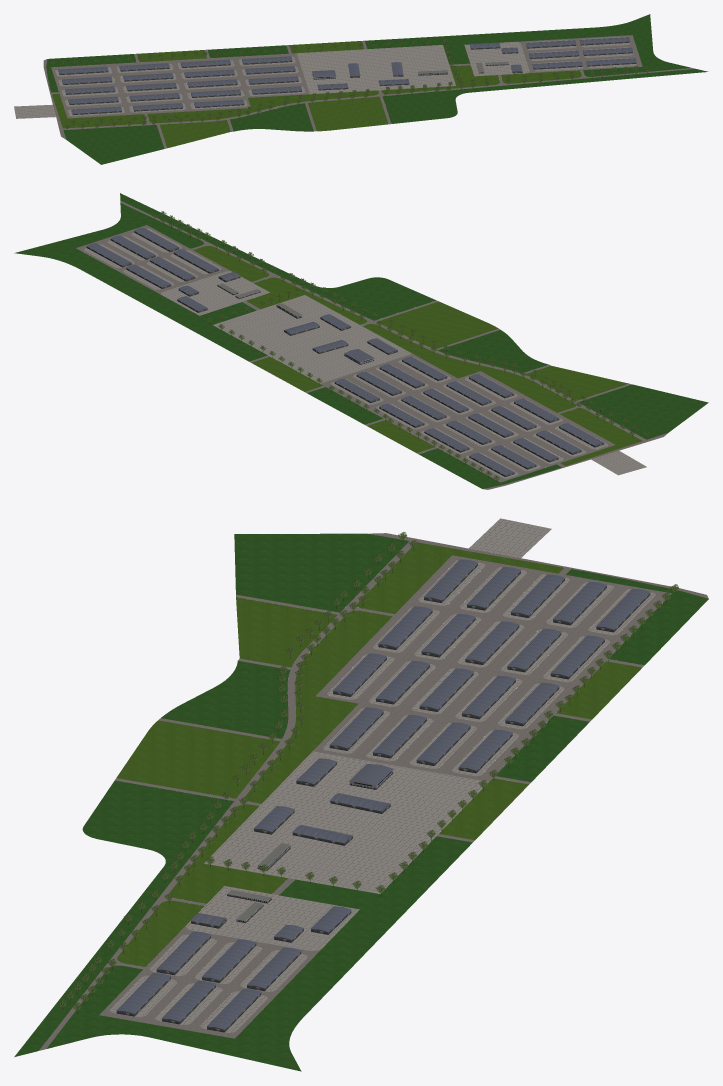
The picture shows the model from 3 angles, top to bottom: view 1: azimuth 30°, elevation 25°; view 2: azimuth 150°, elevation 25°; view 3: azimuth 270°, elevation 25°; orthographic projection. The views are drawn at different scales.
Visible parts, largest first — view 1: ??009, Line030, Rectangle134, Line027, Rectangle135, Line017, DK_3, YSQ?JZ_6, ?????_???7, YSQ?JZ_1, ?????_???1 (1), YSQ?JZ_3 (+20 smaller); view 2: ??009, Line030, Rectangle134, Line027, Rectangle135, Line017, DK_3; view 3: ??009, Line030, Rectangle134, Line027, Rectangle135, Line017, DK_3, YSQ?JZ_5, JGC_020, ?????_???12, ?????_???1 (1), ?????_???5 (1) (+20 smaller).
Boxes of the visible parts, box(x1,y1,x2,y2) form: ??009: box(46, 14, 708, 164); Line030: box(52, 41, 581, 148); Rectangle134: box(43, 40, 695, 148); Line027: box(297, 45, 455, 94); Rectangle135: box(14, 56, 305, 118); Line017: box(464, 36, 636, 76); DK_3: box(515, 35, 642, 73); YSQ?JZ_6: box(532, 61, 582, 69); ?????_???7: box(187, 79, 237, 87); YSQ?JZ_1: box(579, 37, 629, 45); ?????_???1 (1): box(242, 56, 292, 64); YSQ?JZ_3: box(586, 58, 636, 66); ??009: box(14, 193, 708, 488); Line030: box(193, 246, 642, 465); Rectangle134: box(120, 200, 668, 489); Line027: box(213, 295, 411, 383); Rectangle135: box(330, 357, 646, 478); Line017: box(84, 228, 269, 315); DK_3: box(76, 225, 231, 294); ??009: box(14, 533, 708, 1071); Line030: box(116, 542, 641, 966); Rectangle134: box(39, 533, 708, 1050); Line027: box(204, 751, 488, 893); Rectangle135: box(323, 518, 655, 776); Line017: box(110, 886, 359, 1032); DK_3: box(99, 926, 321, 1038); YSQ?JZ_5: box(202, 939, 256, 982); JGC_020: box(416, 722, 470, 765); ?????_???12: box(465, 621, 519, 664); ?????_???1 (1): box(458, 729, 512, 773); ?????_???5 (1): box(505, 682, 559, 726).
Bounding box in the file's own units: 2046 × 19.88 × 1086.
Materials: 24 (24 with a texture image).
